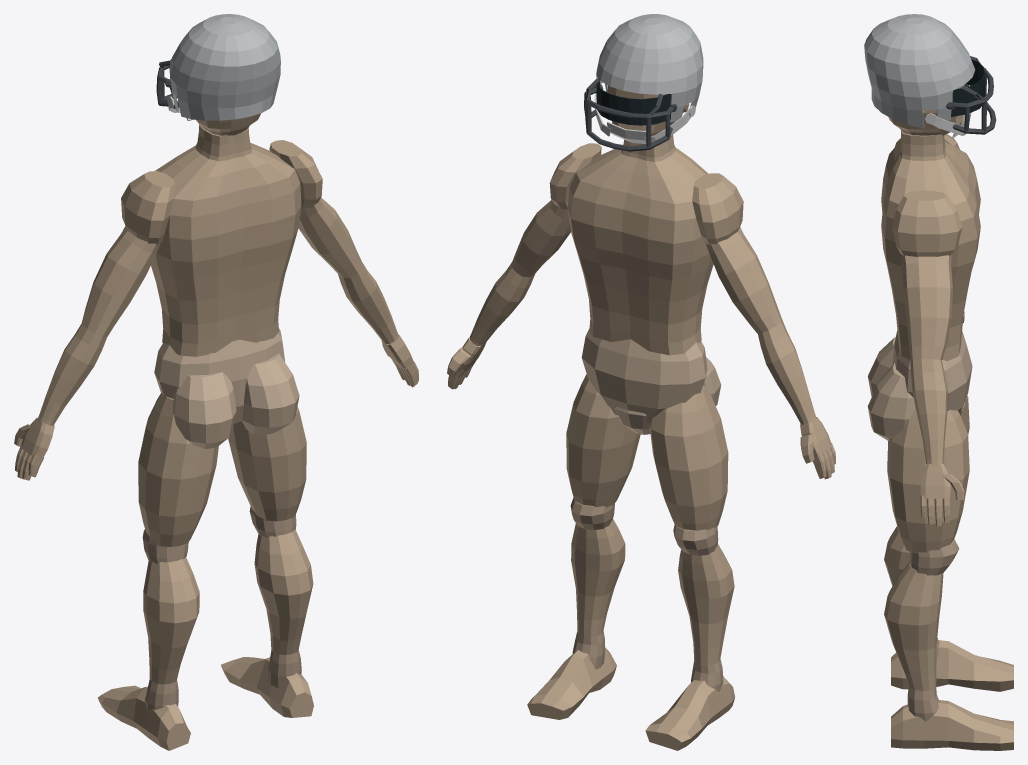
File: lowpoly_human_stage5.glb
3 renders of one model, left to right at view 1: azimuth 30°, elevation 25°; view 2: azimuth 150°, elevation 25°; view 3: azimuth 270°, elevation 25°, orthographic. The views are drawn at different scales.
Visible parts, largest first — view 1: UpperBack, Helmet, LowerBack, RightThigh, Glutes, LeftThigh, RightCalf, LeftCalf, RightUpperArm, Pelvis, RightFoot, RightShoulder (+13 smaller); view 2: RightThigh, RightChest, Belly, Helmet, Pelvis, LeftThigh, LeftChest, RightCalf, LeftCalf, RightUpperArm, RightFoot, LeftFoot (+15 smaller); view 3: Helmet, LeftThigh, LeftCalf, LeftUpperArm, LeftFoot, LeftShoulder, LeftChest, RightFoot, LeftForearm, Glutes, UpperBack, Pelvis (+12 smaller).
Part boxes in pixels (x1,y1,x2,y2): UpperBack: (155, 145, 301, 278); Helmet: (169, 14, 280, 120); LowerBack: (159, 248, 292, 356); RightThigh: (138, 393, 218, 546); Glutes: (173, 353, 299, 448); LeftThigh: (228, 406, 306, 521); RightCalf: (143, 557, 199, 684); LeftCalf: (254, 529, 313, 654); RightUpperArm: (81, 226, 160, 344); Pelvis: (154, 328, 285, 423); RightFoot: (98, 685, 190, 750); RightShoulder: (121, 171, 174, 245); RightThigh: (649, 386, 728, 530); RightChest: (621, 156, 710, 280); Belly: (577, 252, 707, 355); Helmet: (596, 14, 703, 122); Pelvis: (581, 328, 707, 422); LeftThigh: (566, 374, 640, 507); LeftChest: (567, 149, 637, 269); RightCalf: (678, 544, 734, 665); LeftCalf: (571, 519, 625, 637); RightUpperArm: (705, 227, 782, 333); RightFoot: (645, 676, 734, 750); LeftFoot: (527, 648, 616, 719); Helmet: (864, 14, 975, 128); LeftThigh: (887, 407, 969, 553); LeftCalf: (884, 561, 943, 691); LeftUpperArm: (901, 254, 952, 368); LeftFoot: (891, 700, 1013, 750); LeftShoulder: (892, 190, 961, 256); LeftChest: (923, 150, 980, 282); RightFoot: (891, 640, 1013, 691); LeftForearm: (910, 359, 947, 465); Glutes: (867, 337, 915, 440); UpperBack: (881, 143, 924, 282); Pelvis: (892, 330, 972, 413).
Bounding box in the file's own units: 1.13 × 1.92 × 0.377.
